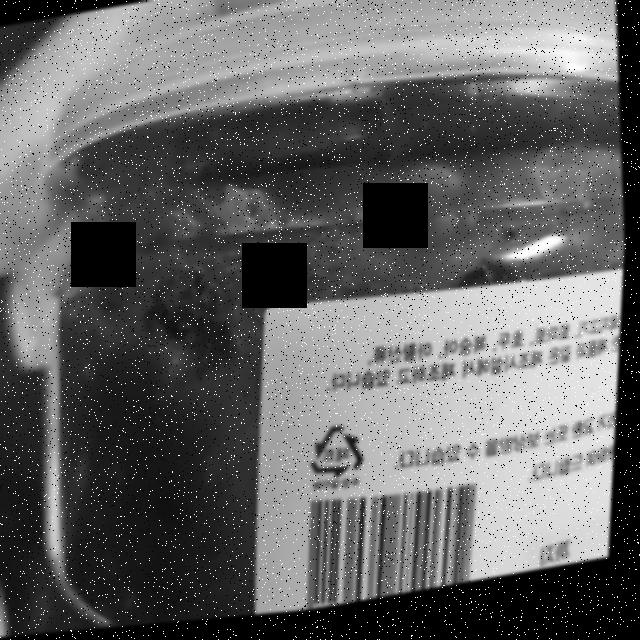PET: (307, 422, 375, 490)
